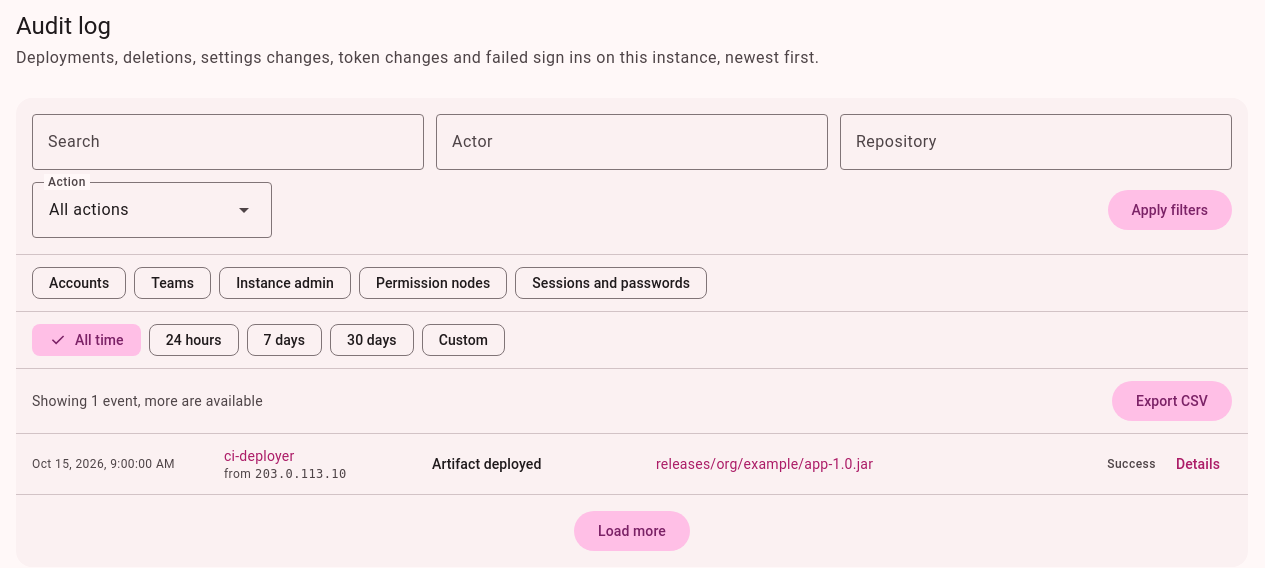
Test case: AuditView paging › loads the next page with its cursor and adds the rows after the ones on screen
Click the button "Load more". click: (632,531)
box: 574,511 -> 690,551
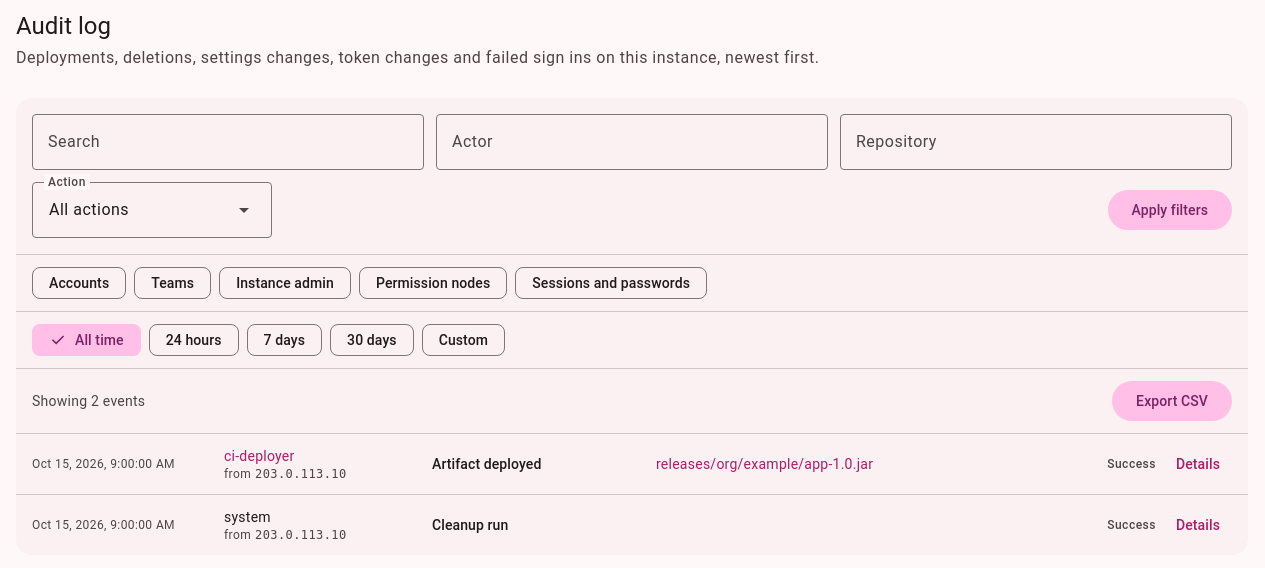
Result: the number of list items is 2 at 16,434 -> 1248,495; 32,509 -> 1232,542
Result: the text "Cleanup run" is shown at 432,517 -> 508,533
